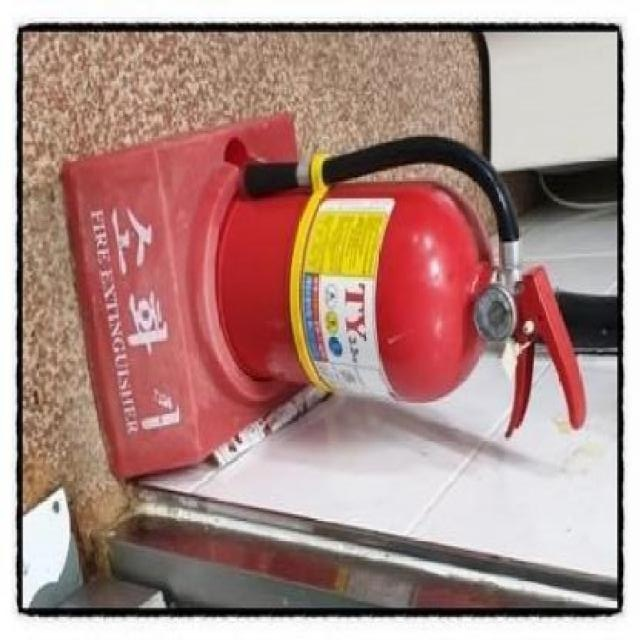fire extinguisher: (213, 134, 587, 438)
